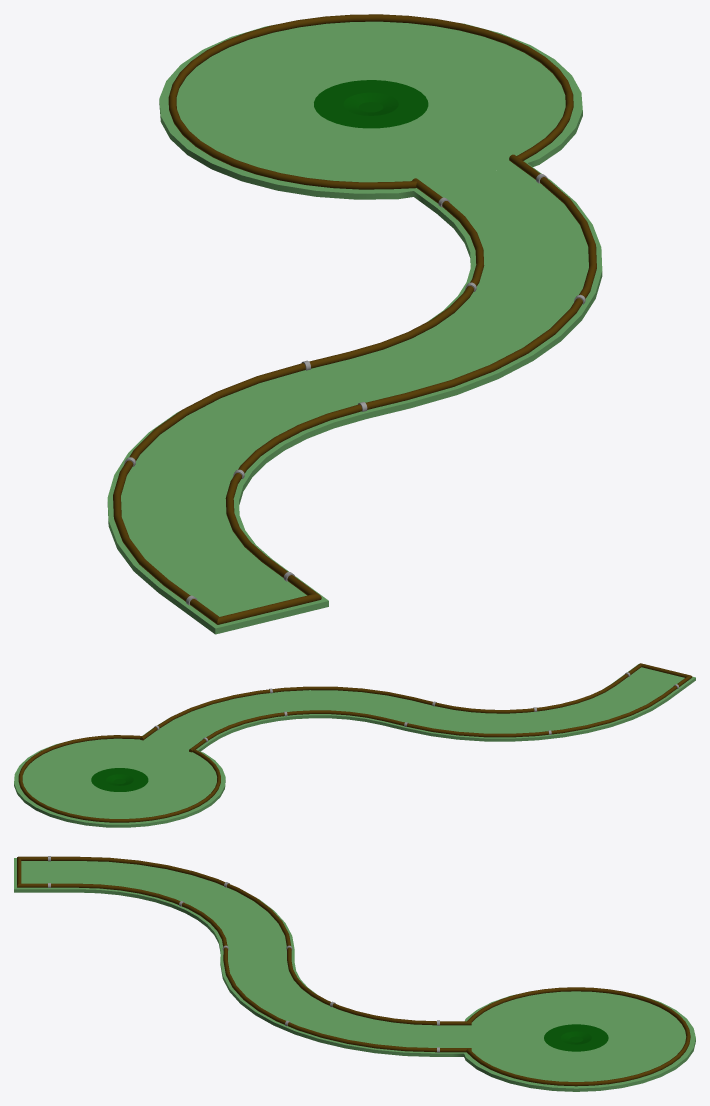
File: Hole02.FBX
3 views of the same model, one above another, from view 1: azimuth 30°, elevation 25°; view 2: azimuth 150°, elevation 25°; view 3: azimuth 270°, elevation 25° (orthographic). The views are drawn at different scales.
Visible parts, largest first — view 1: Course02; view 2: Course02; view 3: Course02.
Part boxes in pixels (<box>): Course02: <box>107,14,602,634</box>; Course02: <box>14,663,695,827</box>; Course02: <box>14,856,695,1091</box>.
Size of the model in its own units: 3648 by 53.27 by 4557.
